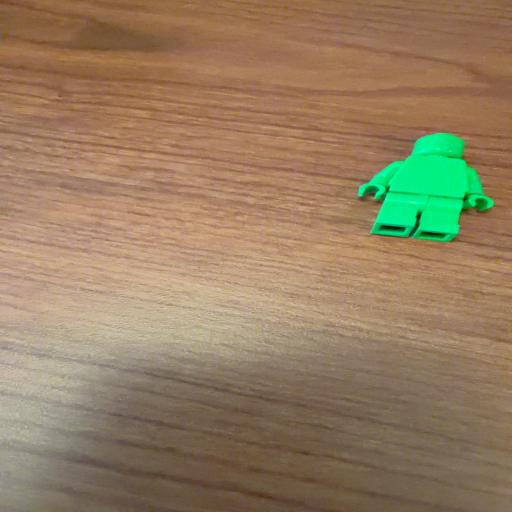UnoQ-minifig-detector: (358, 133, 494, 242)
